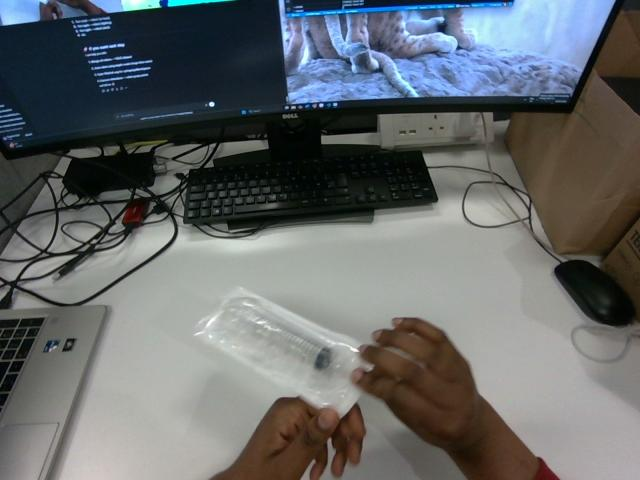syringe: (196, 287, 363, 415)
